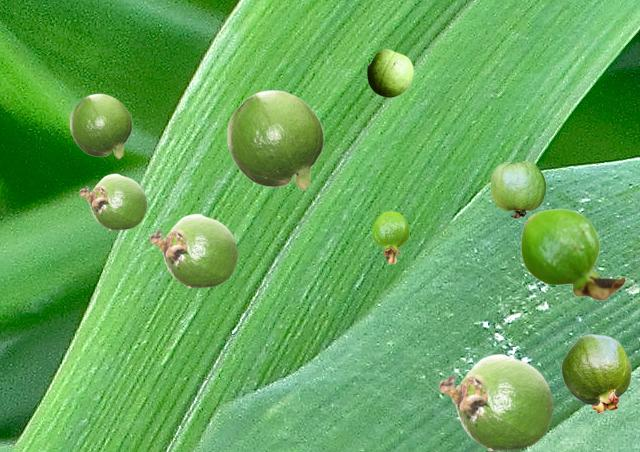guava: (438, 353, 553, 450), (226, 89, 323, 190), (520, 208, 625, 300), (149, 213, 237, 287), (561, 334, 630, 413), (69, 93, 131, 158), (79, 173, 146, 229), (490, 161, 545, 217), (367, 49, 412, 96), (372, 211, 408, 263)
